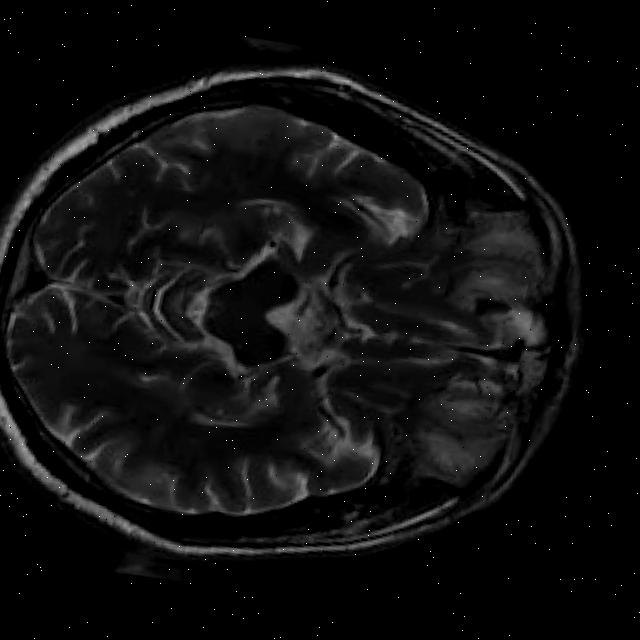NoTumor: (0, 19, 638, 609)
